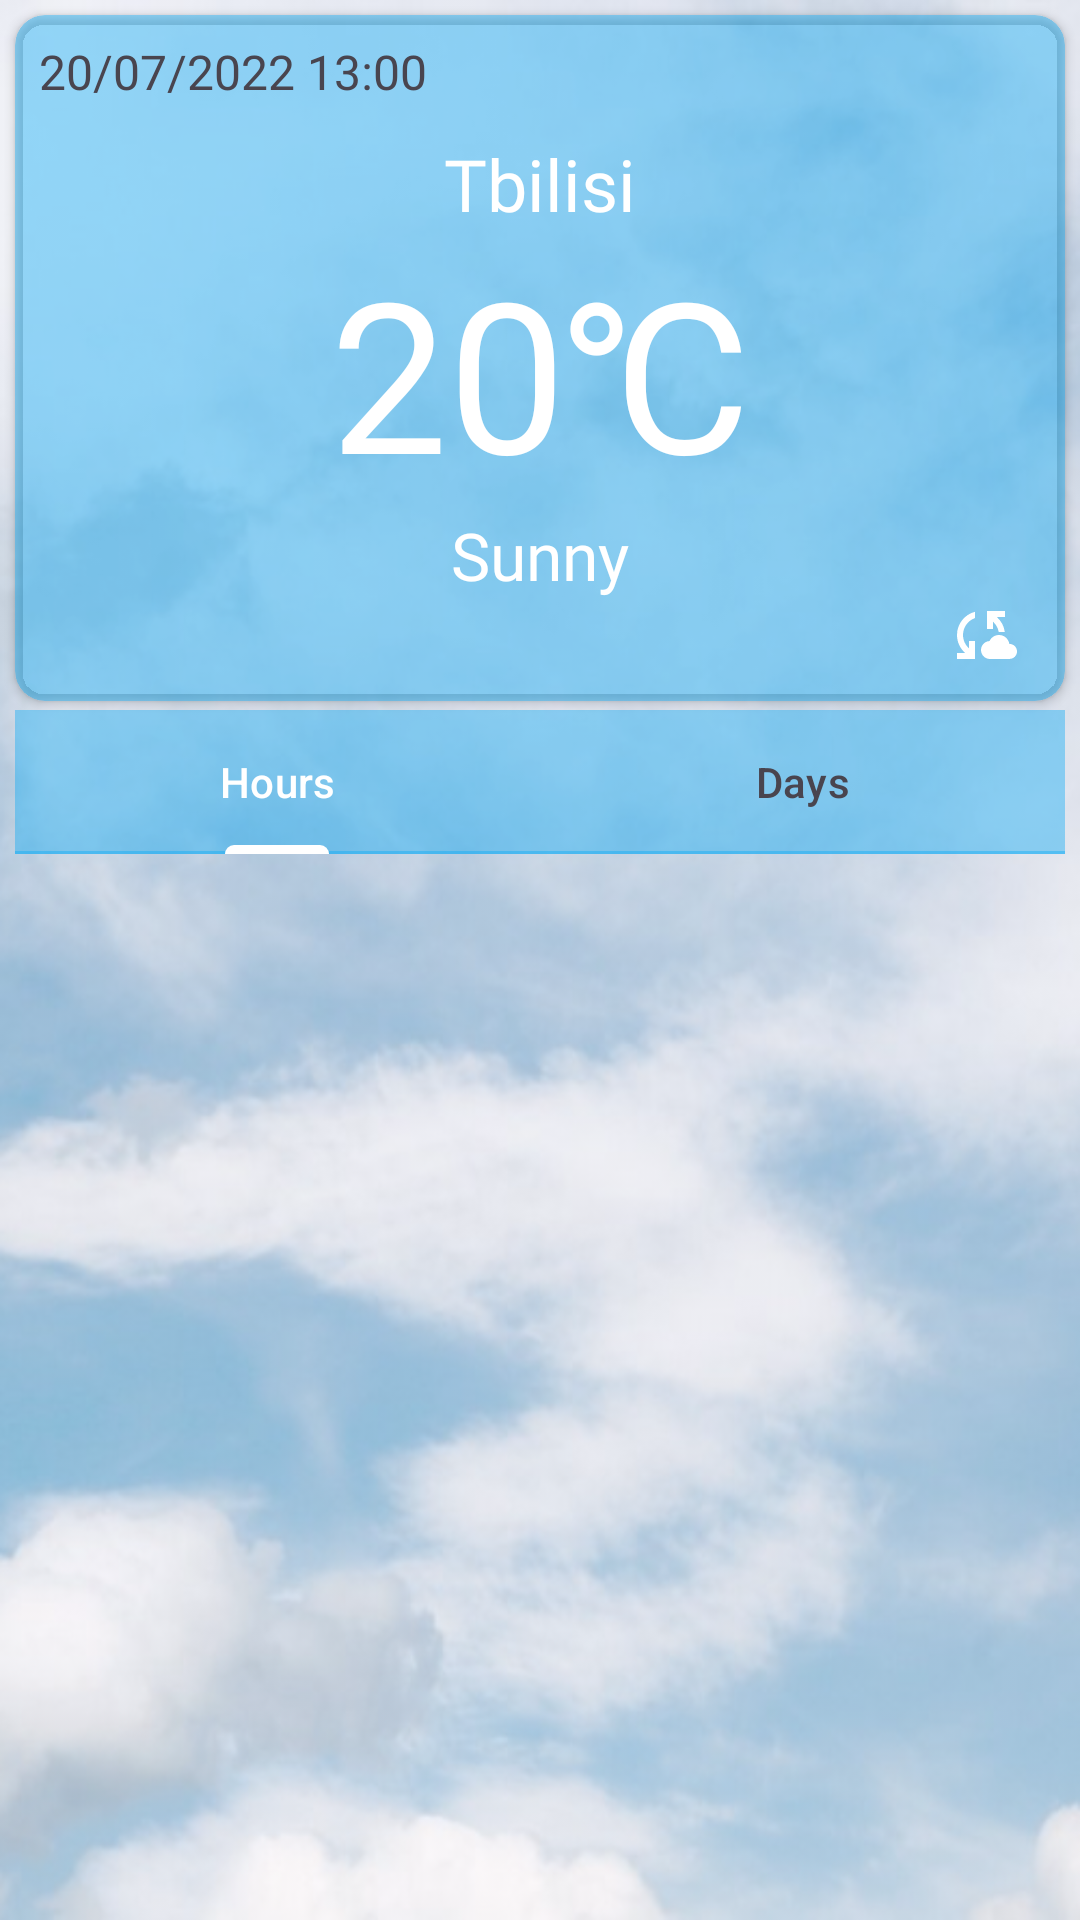

Where to tap for icons on this 1080px x 1920px app screen, as (x=x, y=y):
sync: (x=987, y=635)
